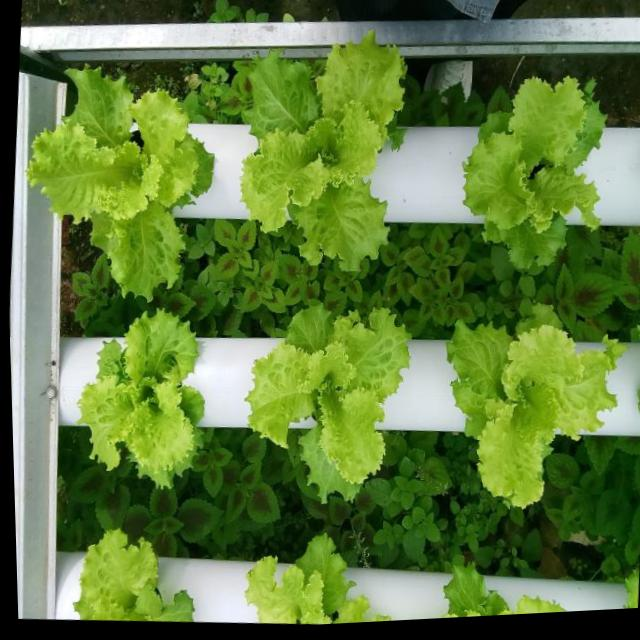Baby: (26, 68, 213, 301), (235, 35, 415, 272), (446, 304, 625, 508), (246, 306, 411, 503), (463, 77, 605, 271), (76, 309, 204, 488)
